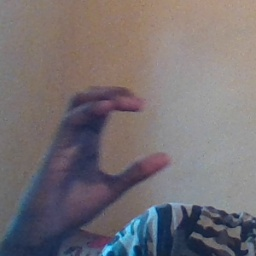C: (47, 84, 180, 189)
